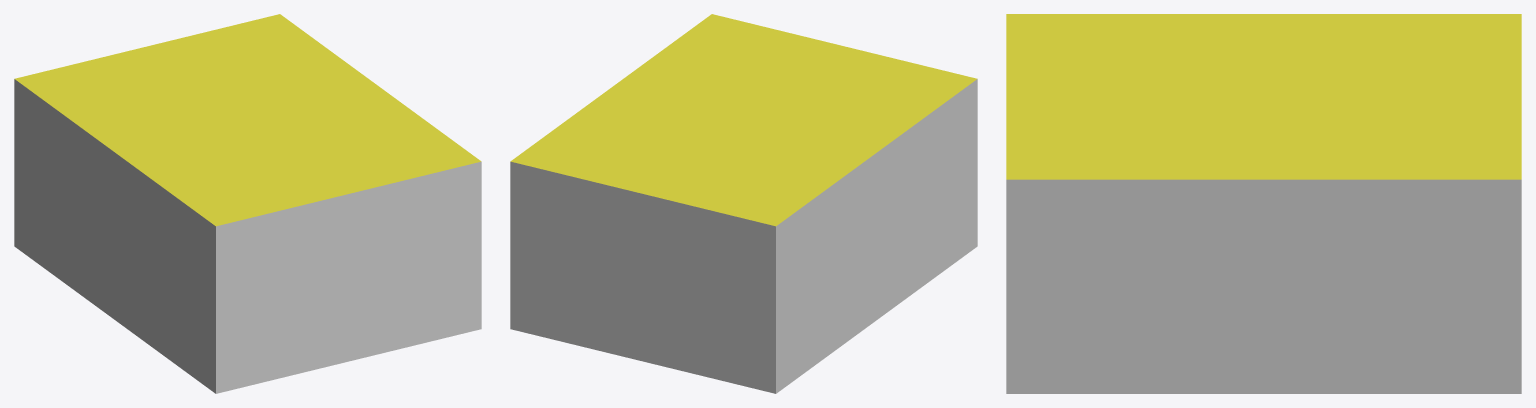
The model's file is cuberoom.fbx.
3 renders of one model, left to right at view 1: azimuth 30°, elevation 25°; view 2: azimuth 150°, elevation 25°; view 3: azimuth 270°, elevation 25°, orthographic. The views are drawn at different scales.
Parts seen in each view (by area): view 1: Cube; view 2: Cube; view 3: Cube.
Part boxes in pixels (x1,y1,x2,y2): Cube: (14,14,481,393); Cube: (510,14,977,393); Cube: (1006,14,1521,393).
Bounding box in the file's own units: 152 × 91.73 × 200.
